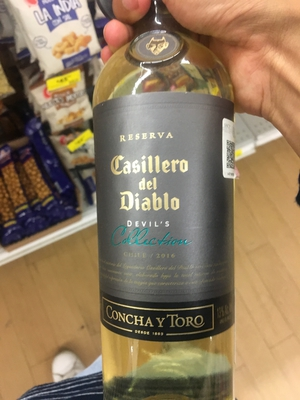casillero del diablo devils collection verde: (86, 20, 253, 398)
